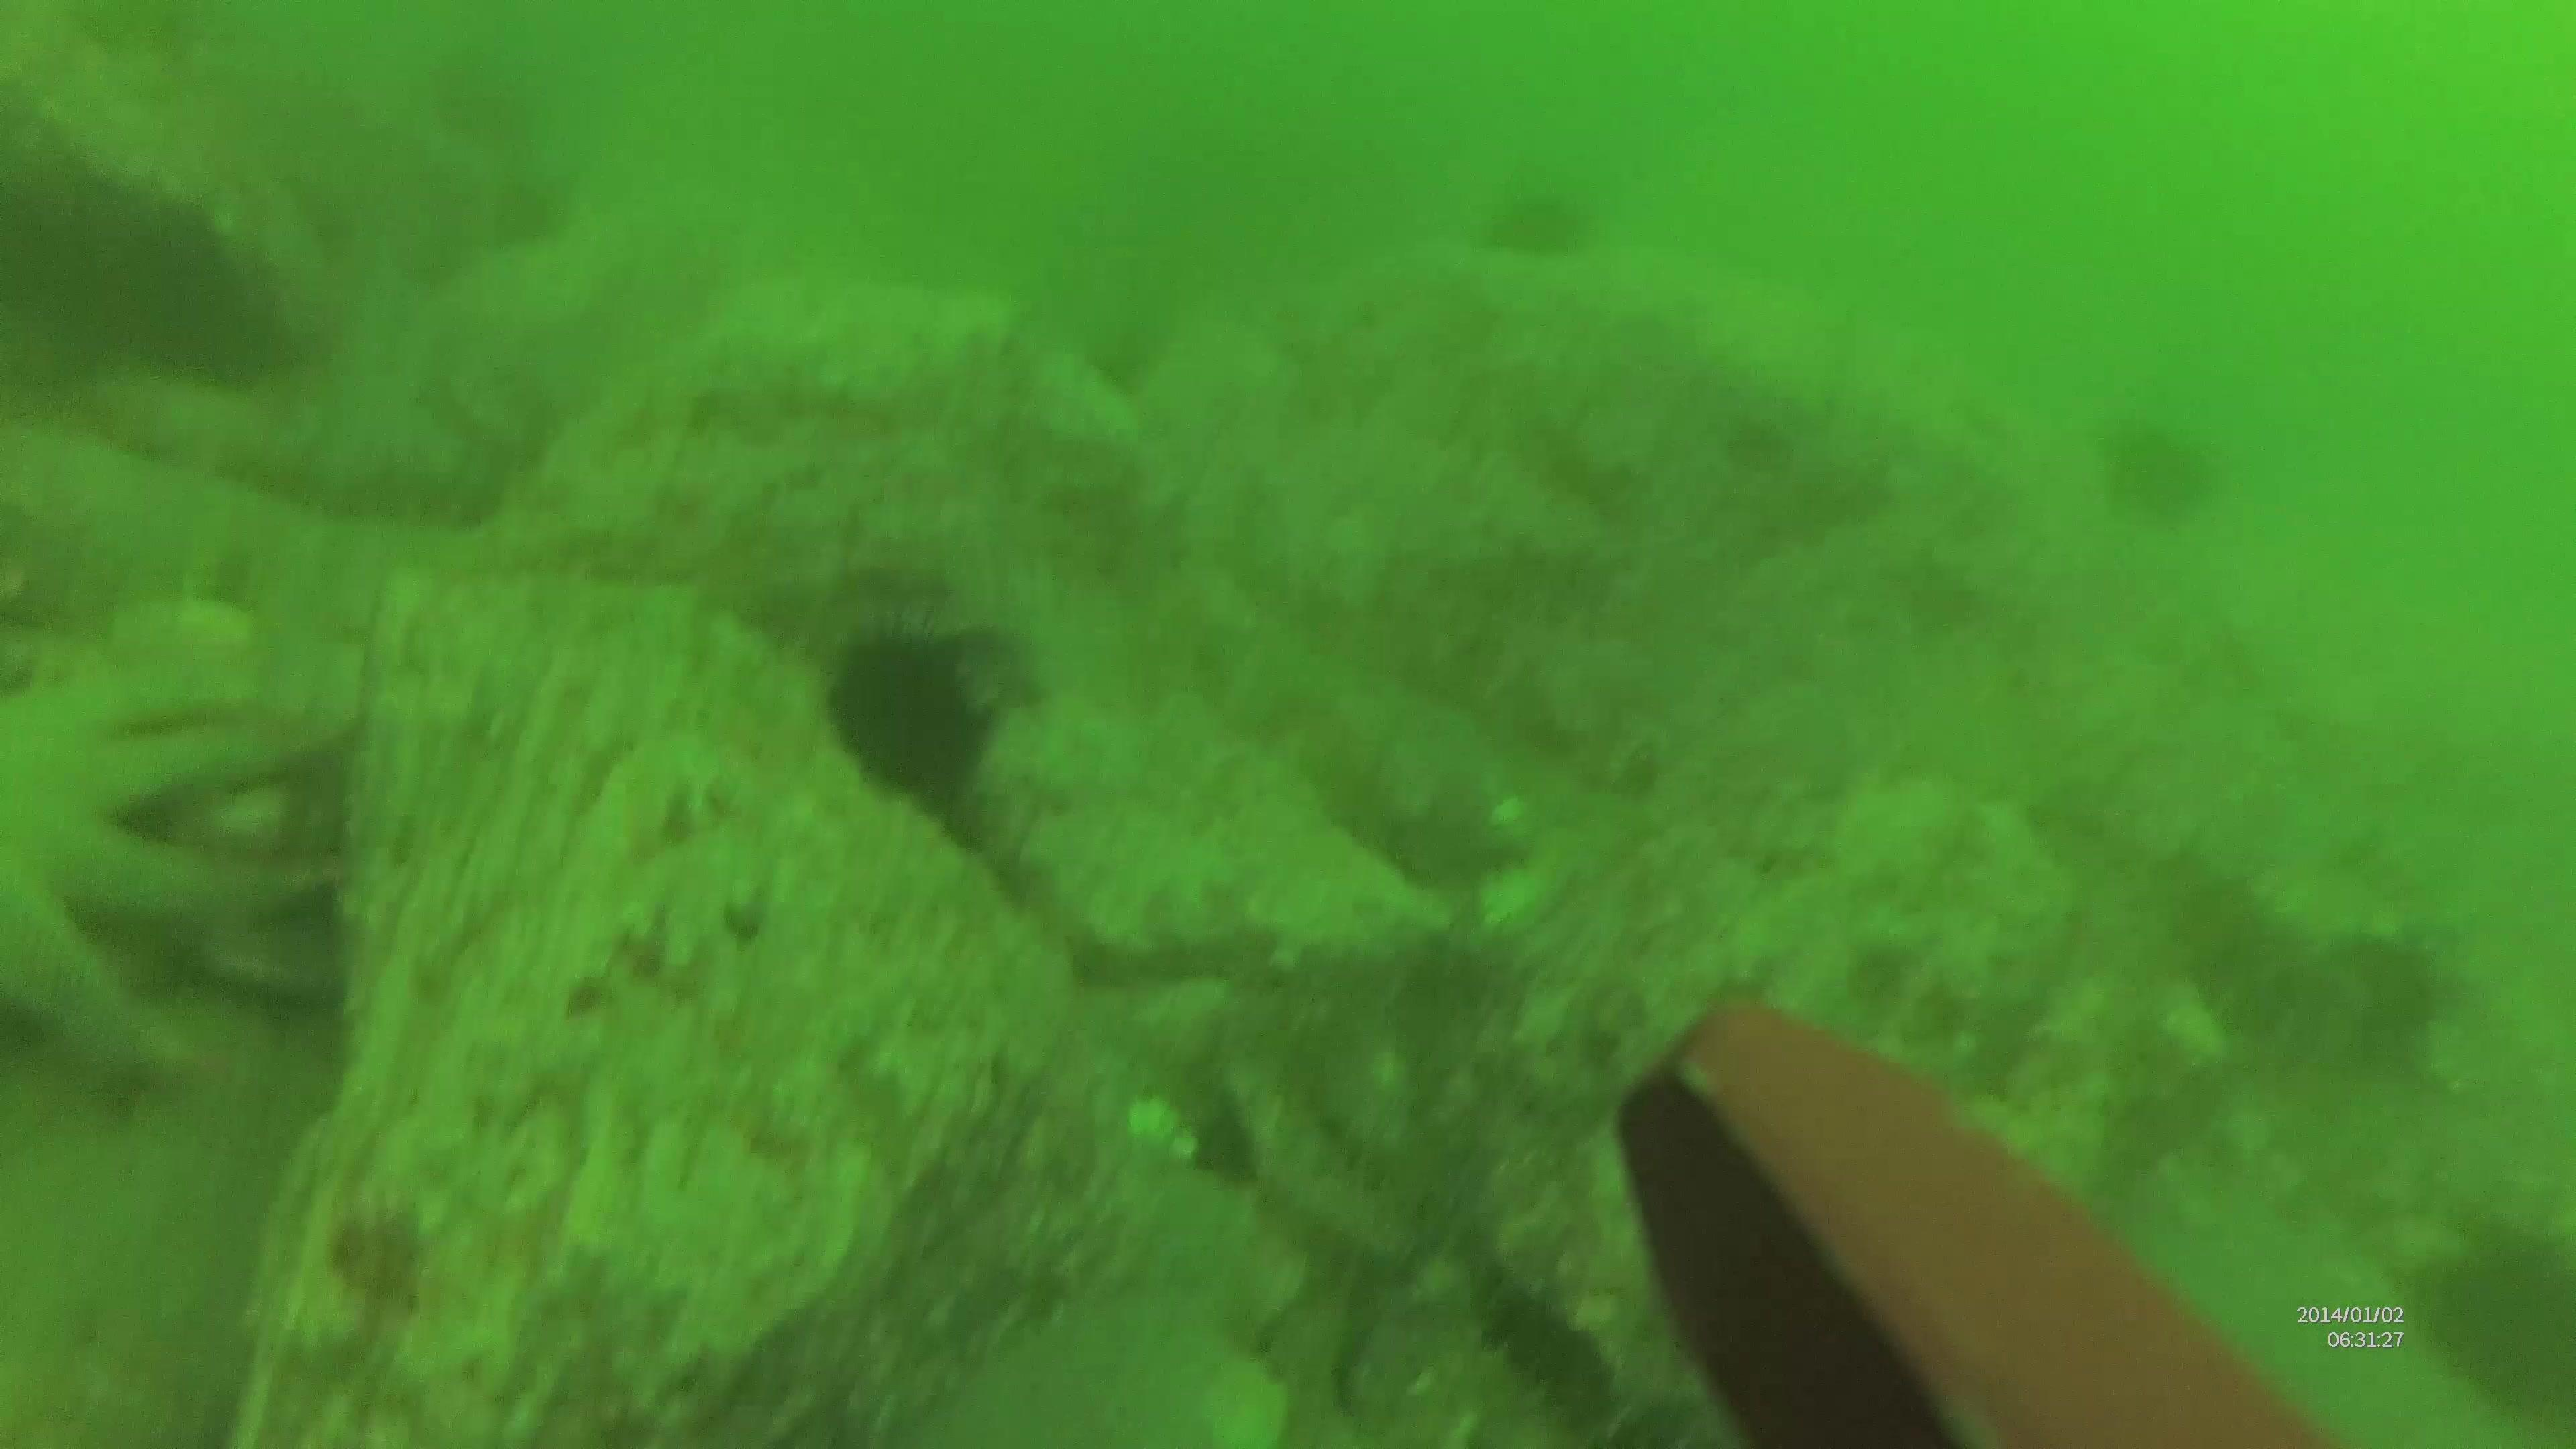echinus: (824, 614, 1014, 817)
